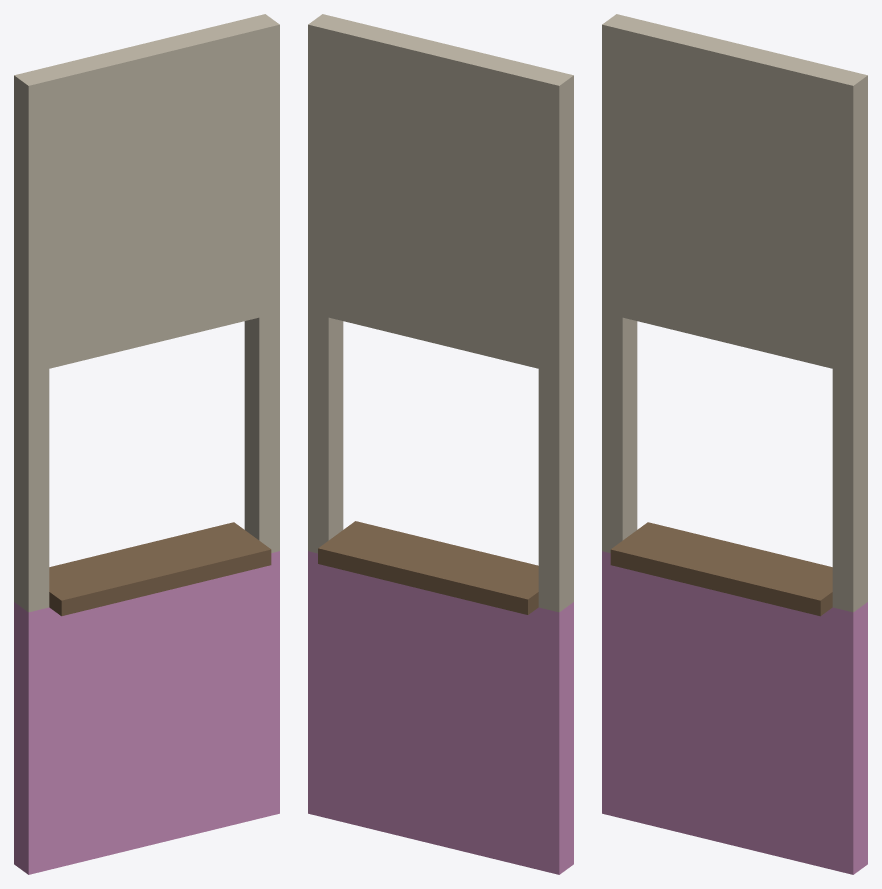
Rendered from Mesh_Wall2Colors_H2.fbx.
The picture shows the model from 3 angles, left to right: view 1: azimuth 30°, elevation 25°; view 2: azimuth 150°, elevation 25°; view 3: azimuth 330°, elevation 25°; orthographic projection.
Parts seen in each view (by area): view 1: Mesh_Wall2Colors_H2; view 2: Mesh_Wall2Colors_H2; view 3: Mesh_Wall2Colors_H2.
Part boxes in pixels (x1,y1,x2,y2): Mesh_Wall2Colors_H2: [14, 14, 279, 874]; Mesh_Wall2Colors_H2: [308, 14, 573, 874]; Mesh_Wall2Colors_H2: [602, 14, 867, 874].
Size of the model in its own units: 1 by 3 by 0.2574.
